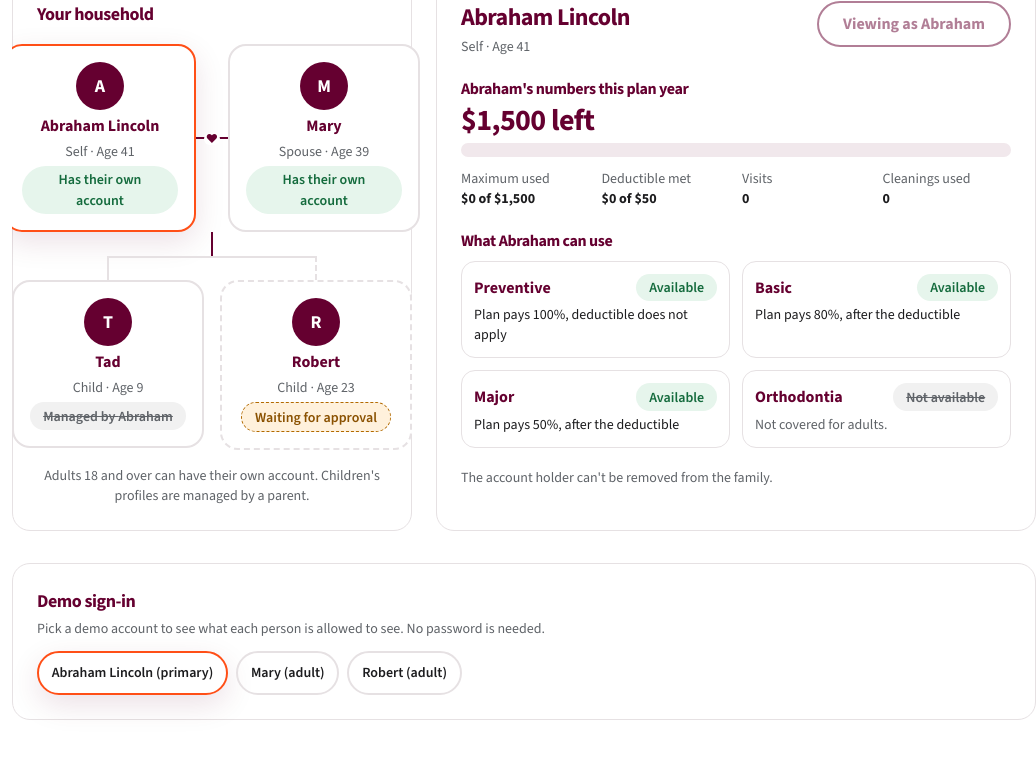
Family page › shows only their own node when an adult who is not primary signs in
This screenshot has width=1036, height=768.
(page scrolled)
Step 1. Click the button "Mary (adult)" → [288, 673], box [236,651,339,695]
(page scrolled)
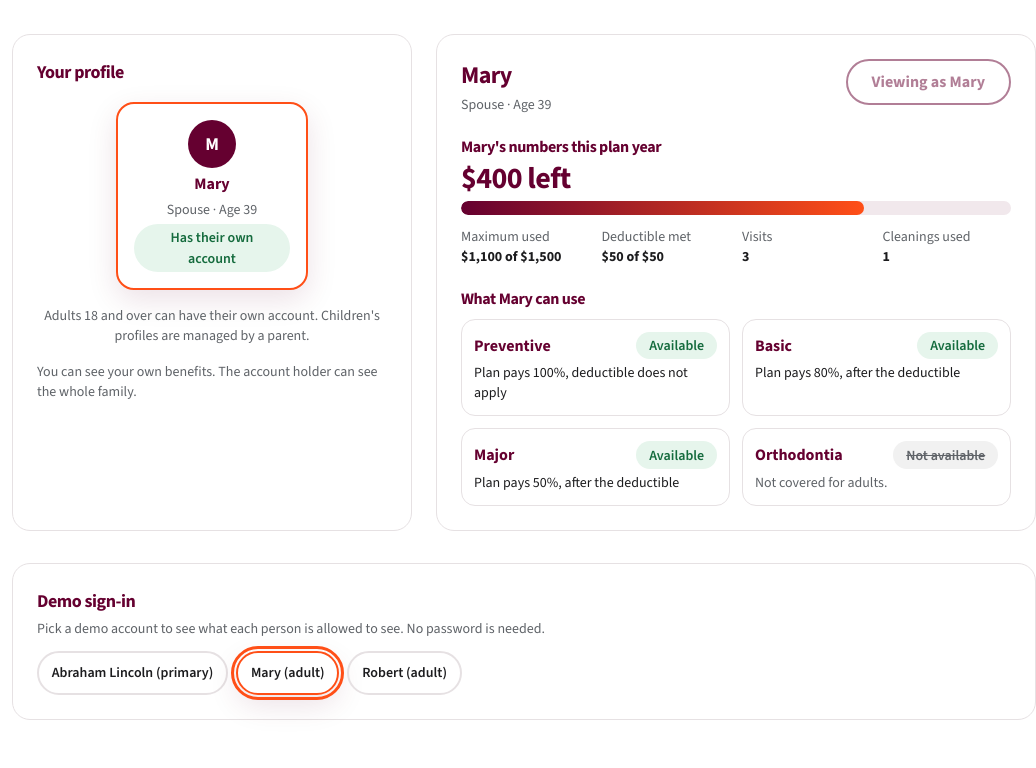
Expected: the button with test id "node-m-alex" is shown, [116,102,308,290]
Expected: the text with test id "max-left" reads "$400 left", [461,158,571,198]
Expected: the text "You can see your own benefits" is shown, [37,362,378,401]
